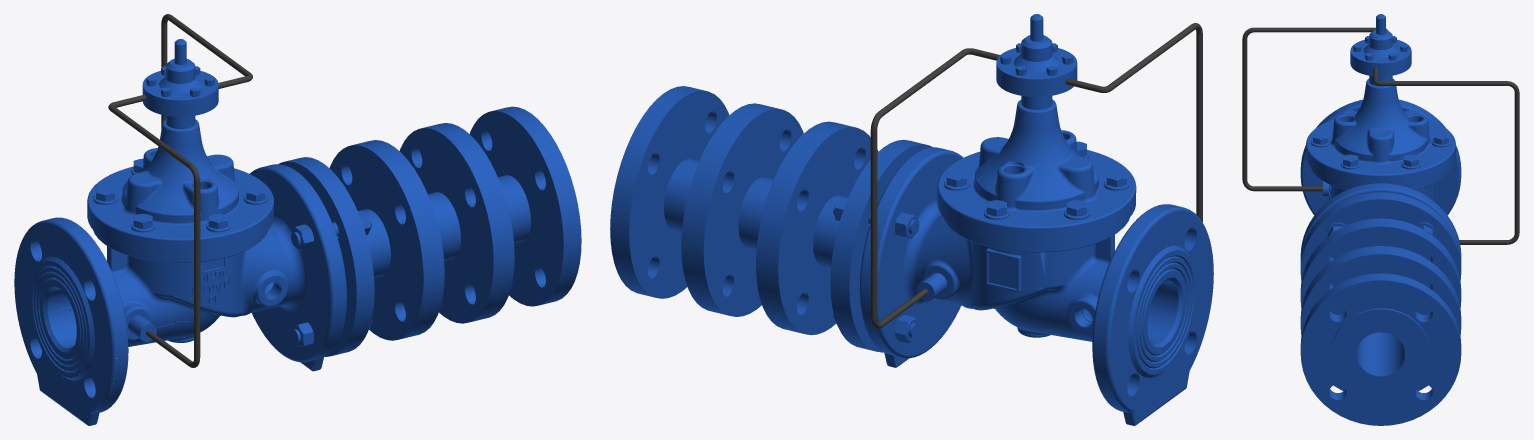
The model's file is DN50泄放阀+伸缩节.glb.
3 renders of one model, left to right at view 1: azimuth 30°, elevation 25°; view 2: azimuth 150°, elevation 25°; view 3: azimuth 270°, elevation 25°, orthographic. The views are drawn at different scales.
Visible parts, largest first — view 1: DN50泄放阀加伸缩节.STEP-1; view 2: DN50泄放阀加伸缩节.STEP-1; view 3: DN50泄放阀加伸缩节.STEP-1.
Part boxes in pixels (box(x1,y1,x2,y2)): DN50泄放阀加伸缩节.STEP-1: box(14, 14, 581, 425); DN50泄放阀加伸缩节.STEP-1: box(610, 14, 1213, 425); DN50泄放阀加伸缩节.STEP-1: box(1242, 14, 1519, 425).
Size of the model in its own units: 0.452 by 0.3095 by 0.2843.
